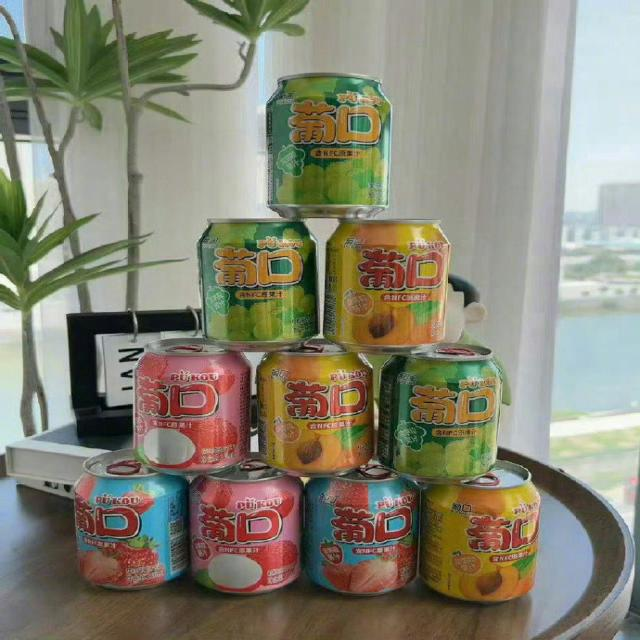can: (262, 68, 397, 218), (318, 214, 456, 354), (192, 212, 322, 352), (127, 337, 254, 475), (419, 470, 544, 606), (380, 350, 503, 486), (65, 460, 187, 592), (253, 349, 377, 478), (188, 475, 302, 597), (305, 475, 417, 597)
